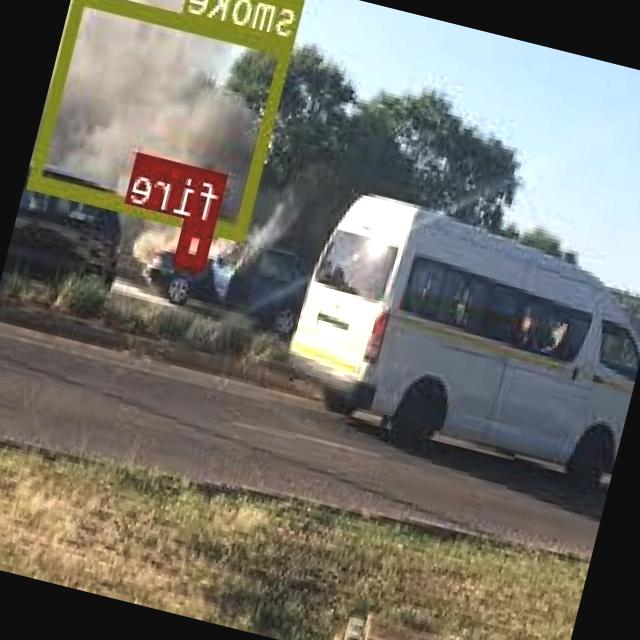fire: (177, 216, 218, 268)
smoke: (29, 0, 294, 239)
